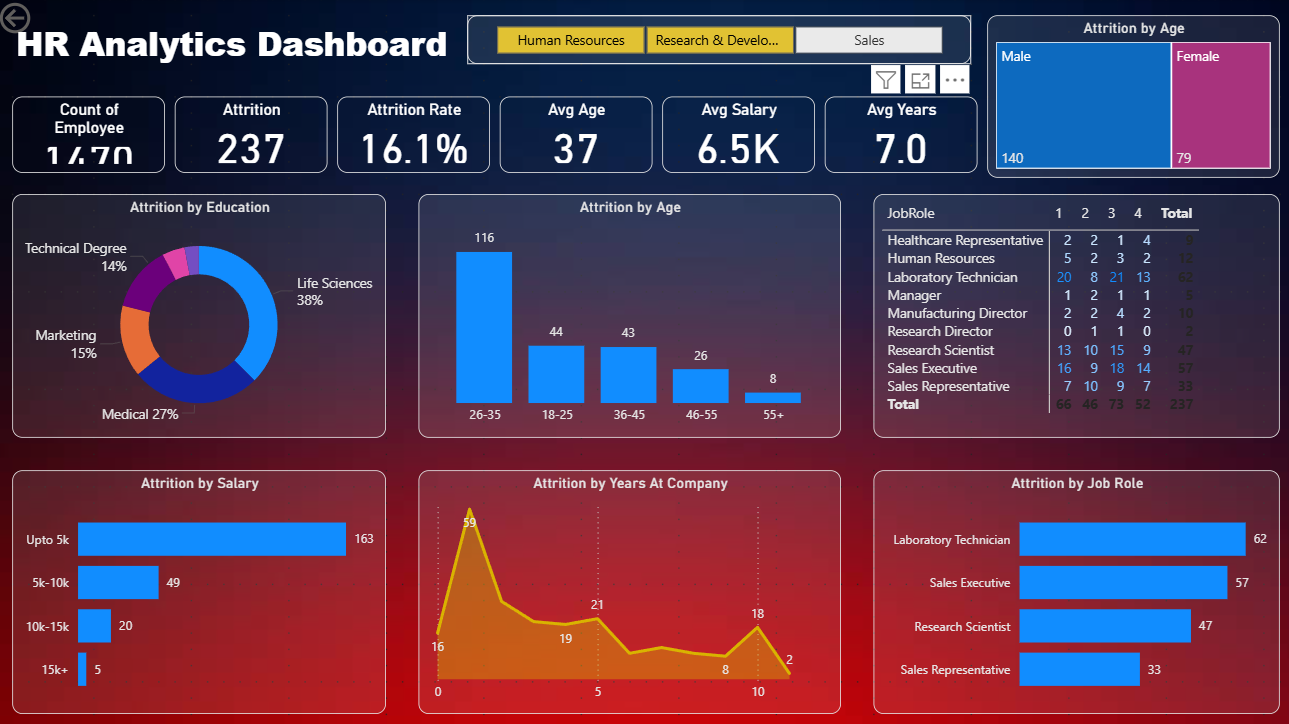

This screenshot's page, from the dashboard's own definition file:
{"tool":"powerbi","page":{"name":"Page 1","canvas":[1280,720],"ordinal":0},"visuals":[{"type":"card","title":"Count of Employee","fields":{"Values":["CountNonNull(HR_Analytics.EmpID)"]},"box":[16,96,150,75],"z":0},{"type":"card","title":"Attrition","fields":{"Values":["Sum(HR_Analytics.AttritionCount)"]},"box":[176,96,150,75],"z":1000},{"type":"card","title":"Attrition Rate","fields":{"Values":["HR_Analytics.AttritionRate"]},"box":[336,96,150,75],"z":2000},{"type":"card","title":"Avg Age","fields":{"Values":["Avg(HR_Analytics.Age)"]},"box":[496,96,150,75],"z":3000},{"type":"card","title":"Avg Salary","fields":{"Values":["Avg(HR_Analytics.MonthlyIncome)"]},"box":[656,96,150,75],"z":4000},{"type":"card","title":"Avg Years","fields":{"Values":["Avg(HR_Analytics.YearsAtCompany)"]},"box":[816,96,150,75],"z":5000},{"type":"actionButton","box":[-0.7,-0.7,100,40],"z":6000},{"type":"donutChart","title":"Attrition by Education","fields":{"Category":["HR_Analytics.EducationField"],"Y":["Sum(HR_Analytics.AttritionCount)"]},"box":[16,192,368,240],"z":7000},{"type":"columnChart","title":"Attrition by Age","fields":{"Category":["HR_Analytics.AgeGroup"],"Y":["Sum(HR_Analytics.AttritionCount)"]},"box":[416,192,416,240],"z":8000},{"type":"pivotTable","fields":{"Rows":["HR_Analytics.JobRole"],"Columns":["HR_Analytics.JobSatisfaction"],"Values":["Sum(HR_Analytics.AttritionCount)"]},"box":[864,192,400,240],"z":9000},{"type":"barChart","title":"Attrition by Salary","fields":{"Category":["HR_Analytics.SalarySlab"],"Y":["Sum(HR_Analytics.AttritionCount)"]},"box":[16,464,368,240],"z":10000},{"type":"barChart","title":"Attrition by Job Role","fields":{"Category":["HR_Analytics.JobRole"],"Y":["Sum(HR_Analytics.AttritionCount)"]},"box":[864,464,400,240],"z":11000},{"type":"areaChart","title":"Attrition by Years At Company","fields":{"Category":["HR_Analytics.YearsAtCompany"],"Y":["Sum(HR_Analytics.AttritionCount)"]},"box":[416,464,416,240],"z":12000},{"type":"treemap","title":"Attrition by Age","fields":{"Group":["HR_Analytics.Gender"],"Values":["Sum(HR_Analytics.AttritionCount)"]},"box":[976,16,288,160],"z":12001},{"type":"slicer","fields":{"Values":["HR_Analytics.Department"]},"box":[464,16,496,48],"z":12002},{"type":"textbox","box":[0,16,464,64],"z":12003}]}

Visuals, with their boxes in screenshot pixels (x1, y1, x2, y2), scaled from the page's 1280x720 canvas onto the 1289x724 screenshot:
"Count of Employee" card: <box>16,97,167,172</box>
"Attrition" card: <box>177,97,328,172</box>
"Attrition Rate" card: <box>338,97,489,172</box>
"Avg Age" card: <box>499,97,651,172</box>
"Avg Salary" card: <box>661,97,812,172</box>
"Avg Years" card: <box>822,97,973,172</box>
actionButton: <box>0,0,100,40</box>
"Attrition by Education" donutChart: <box>16,193,387,434</box>
"Attrition by Age" columnChart: <box>419,193,838,434</box>
pivotTable - HR_Analytics.JobRole x HR_Analytics.JobSatisfaction: <box>870,193,1273,434</box>
"Attrition by Salary" barChart: <box>16,467,387,708</box>
"Attrition by Job Role" barChart: <box>870,467,1273,708</box>
"Attrition by Years At Company" areaChart: <box>419,467,838,708</box>
"Attrition by Age" treemap: <box>983,16,1273,177</box>
slicer - HR_Analytics.Department: <box>467,16,967,64</box>
textbox: <box>0,16,467,80</box>
